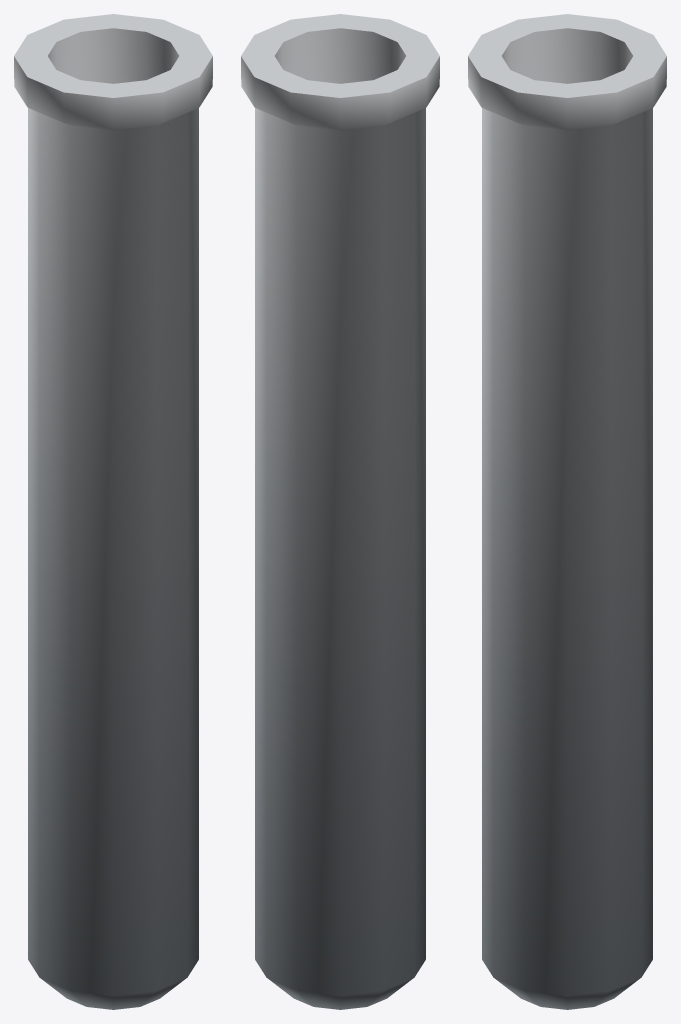
File: PotionBottleOpaque8.fbx
The picture shows the model from 3 angles, left to right: view 1: azimuth 30°, elevation 25°; view 2: azimuth 150°, elevation 25°; view 3: azimuth 270°, elevation 25°; orthographic projection.
Visible parts, largest first — view 1: PotionBottleOpaque8; view 2: PotionBottleOpaque8; view 3: PotionBottleOpaque8.
Part boxes in pixels (x1,y1,x2,y2): PotionBottleOpaque8: (14, 14, 212, 1009); PotionBottleOpaque8: (241, 14, 439, 1009); PotionBottleOpaque8: (468, 14, 666, 1009).
Size of the model in its own units: 3.49 by 18 by 3.49.
